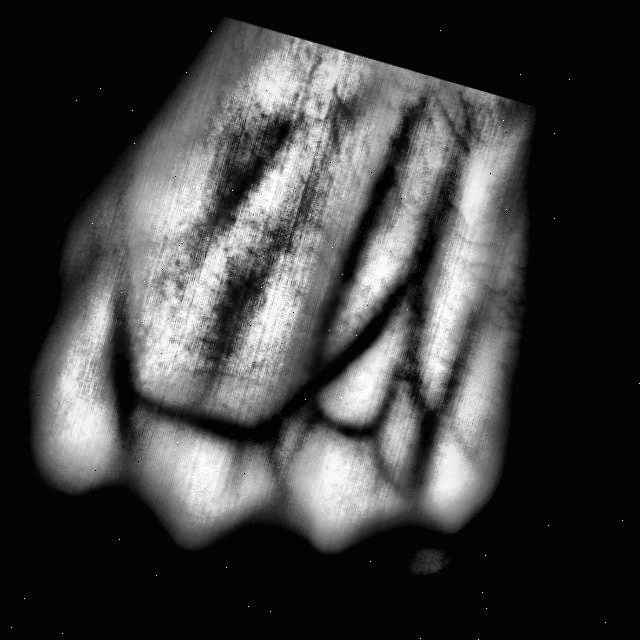Vein: (305, 110, 422, 358)
